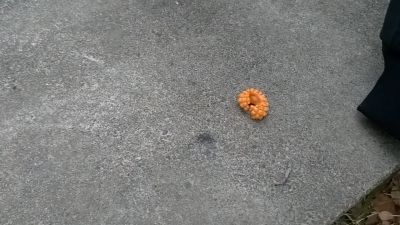eggs: (237, 86, 270, 121)
